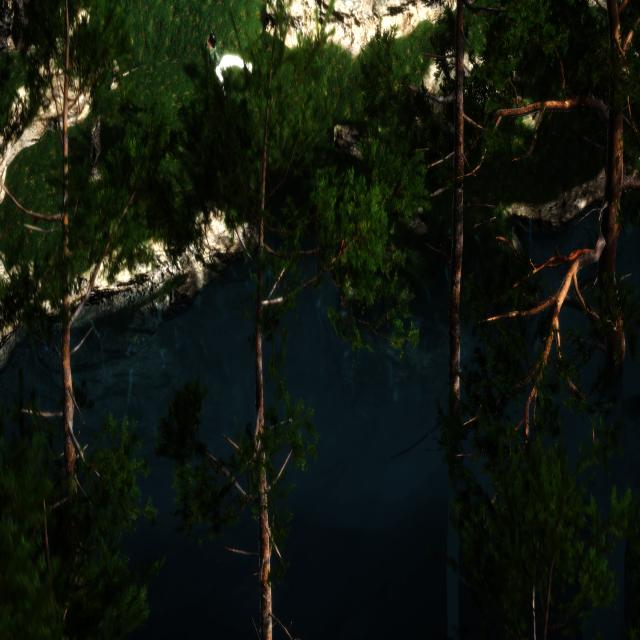Human: (202, 27, 258, 97)
